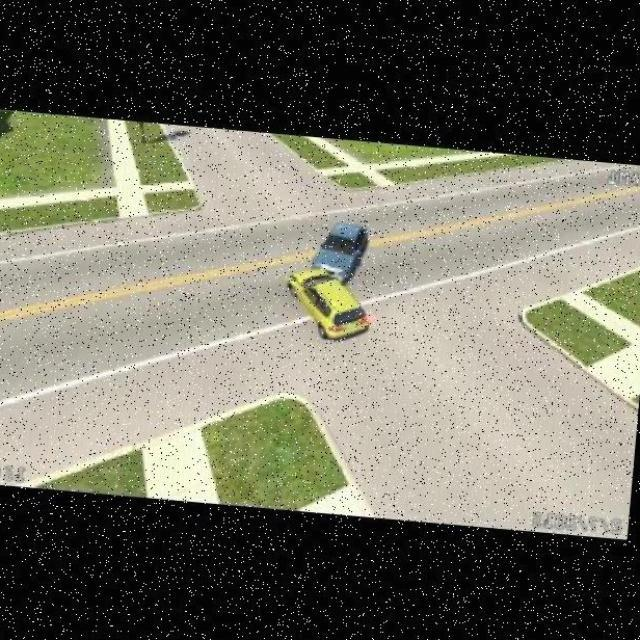accident: (285, 211, 383, 344)
